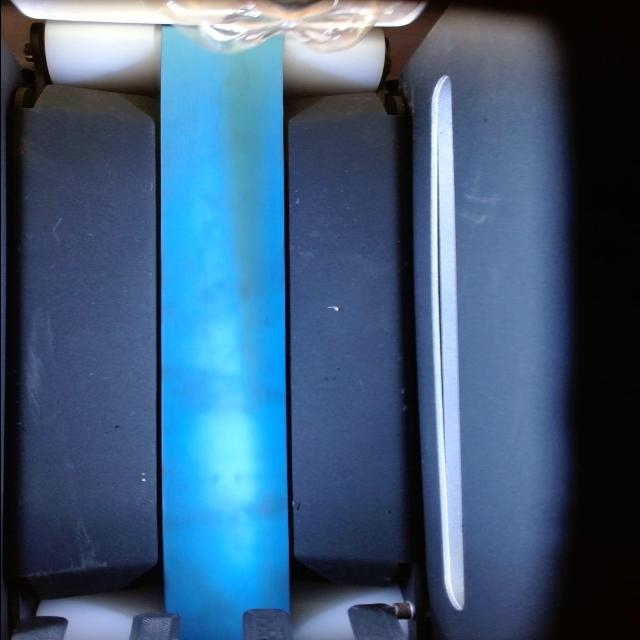bottle: (164, 0, 382, 52)
